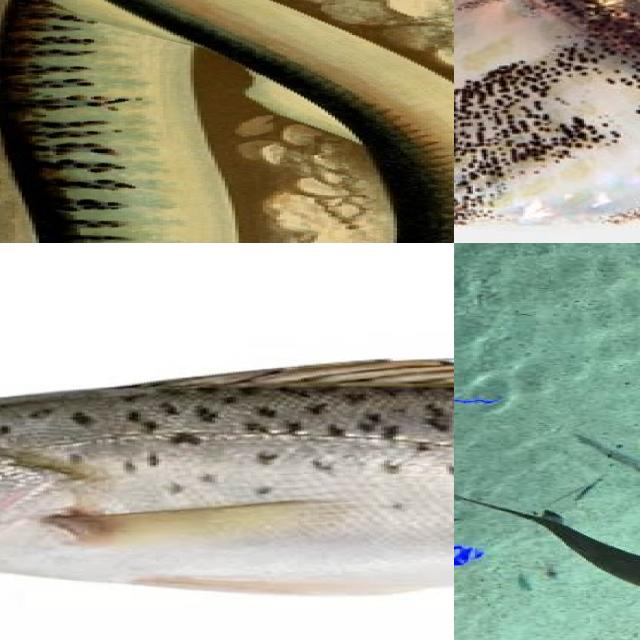fish: (0, 0, 454, 243)
